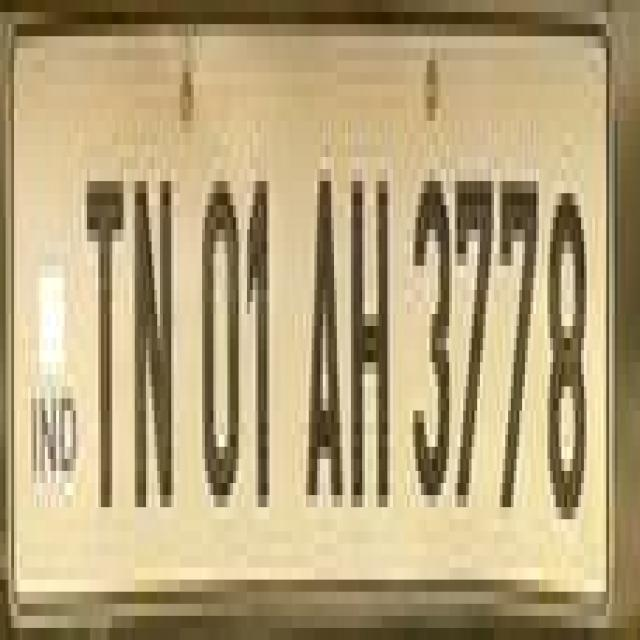license_plate: (3, 0, 606, 640)
